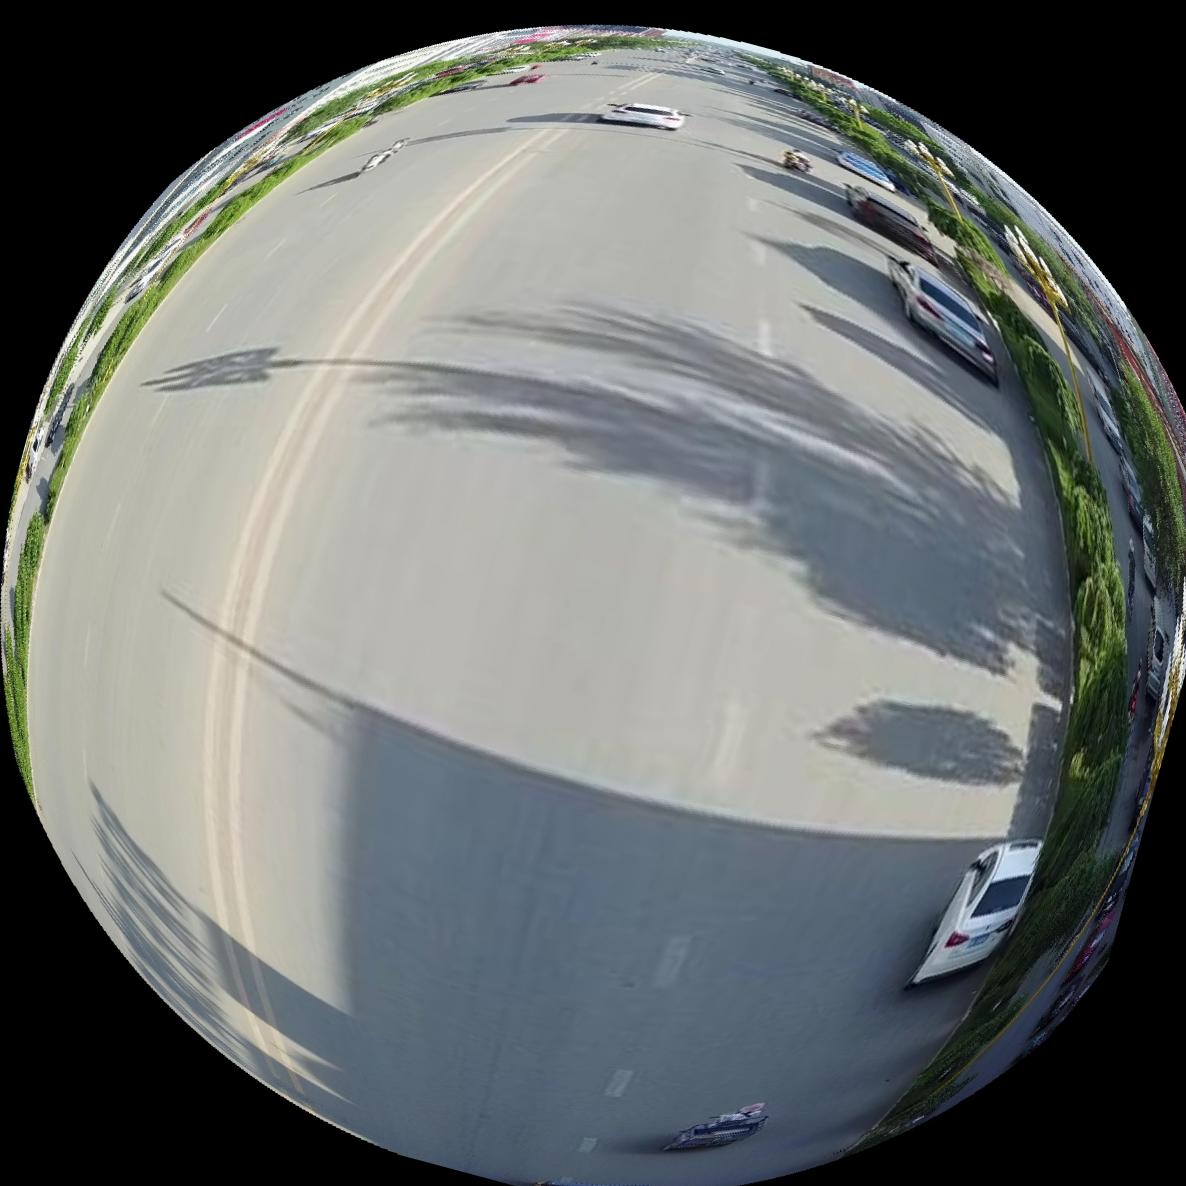cars: (912, 843, 1043, 986), (891, 257, 1000, 385), (848, 183, 940, 265), (663, 1107, 769, 1153), (838, 151, 899, 191), (601, 102, 687, 129)
trees: (868, 574, 1136, 1144), (1037, 413, 1117, 601), (1004, 314, 1070, 432), (1062, 383, 1076, 410)
